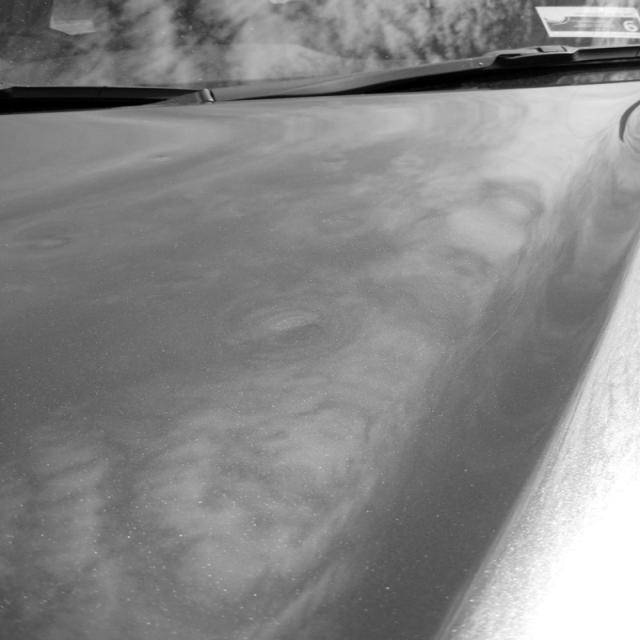scratch: (616, 97, 640, 143)
